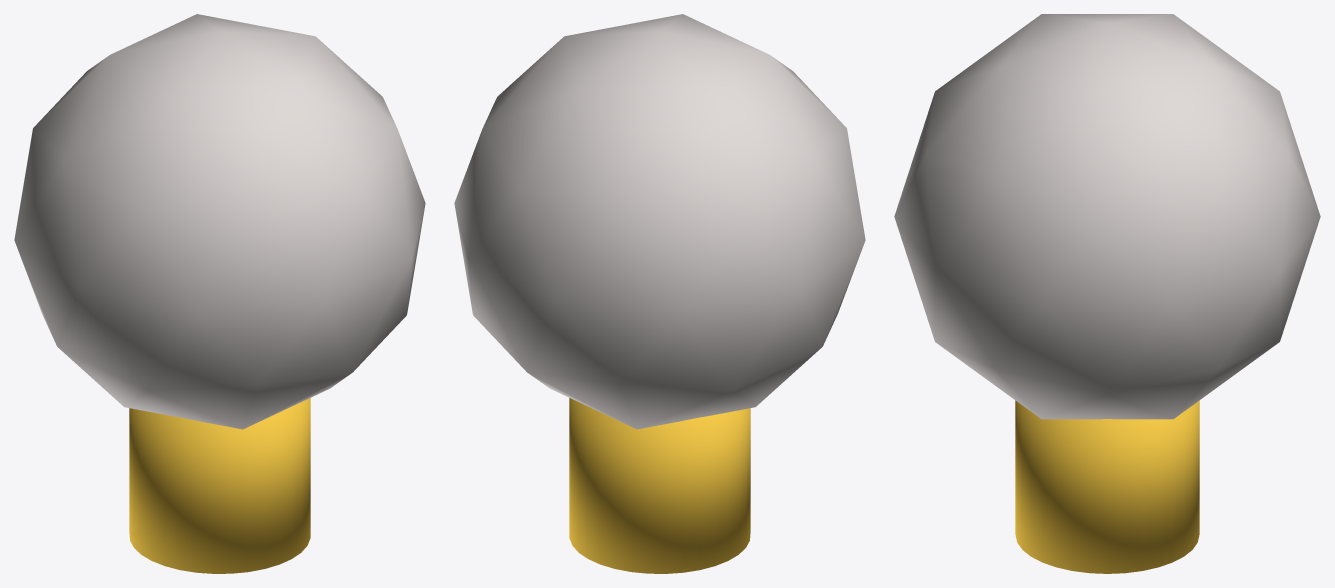
Rendered from Mushroom.glb.
3 views of the same model, side by side, from view 1: azimuth 30°, elevation 25°; view 2: azimuth 150°, elevation 25°; view 3: azimuth 270°, elevation 25° (orthographic).
Visible parts, largest first — view 1: Icosphere; view 2: Icosphere; view 3: Icosphere.
Boxes of the visible parts, <box> form: Icosphere: <box>14,14,425,573</box>; Icosphere: <box>454,14,865,573</box>; Icosphere: <box>894,14,1320,573</box>.
Size of the model in its own units: 1.38 by 1.93 by 1.45.
